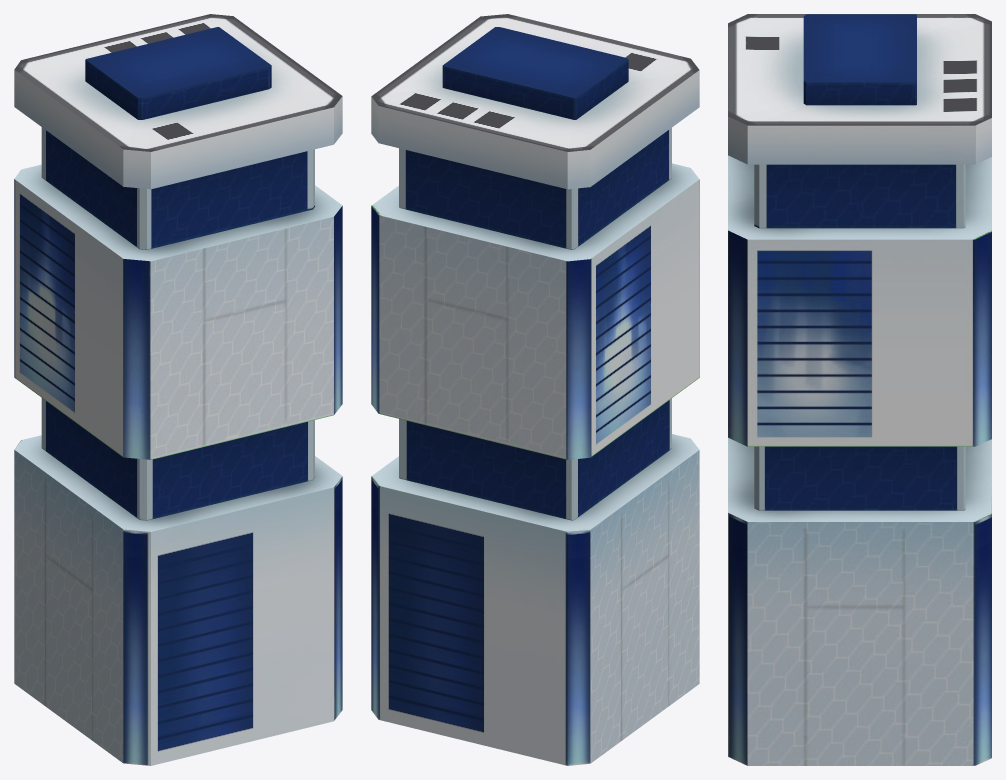
The model's file is House_31.FBX.
3 renders of one model, left to right at view 1: azimuth 30°, elevation 25°; view 2: azimuth 150°, elevation 25°; view 3: azimuth 270°, elevation 25°, orthographic. The views are drawn at different scales.
Parts seen in each view (by area): view 1: House_31; view 2: House_31; view 3: House_31.
Boxes of the visible parts, x1=… form: House_31: x1=14, y1=14, x2=342, y2=765; House_31: x1=371, y1=14, x2=699, y2=765; House_31: x1=728, y1=14, x2=991, y2=765.
Bounding box in the file's own units: 30.07 × 83.17 × 30.07.
1 material, 1 textured.
